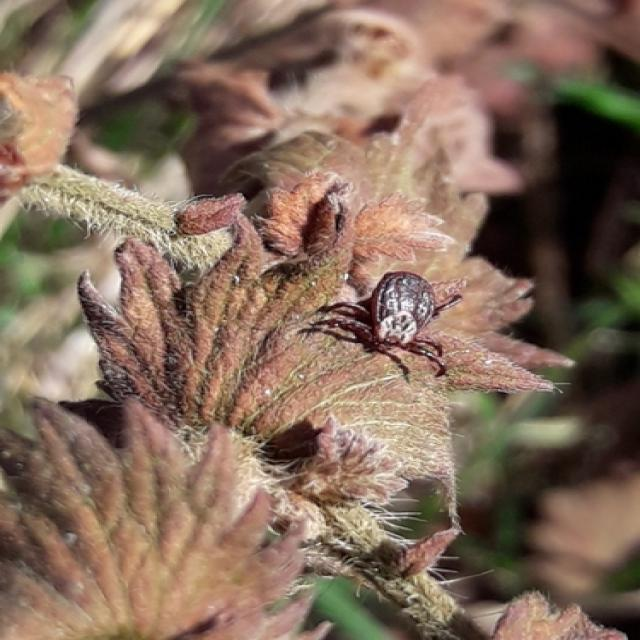Dermacentor Reticulatus-F: (311, 271, 464, 380)
